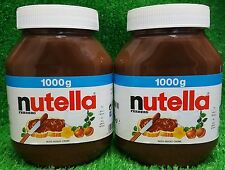nutella: (111, 4, 223, 167), (6, 5, 113, 167)
